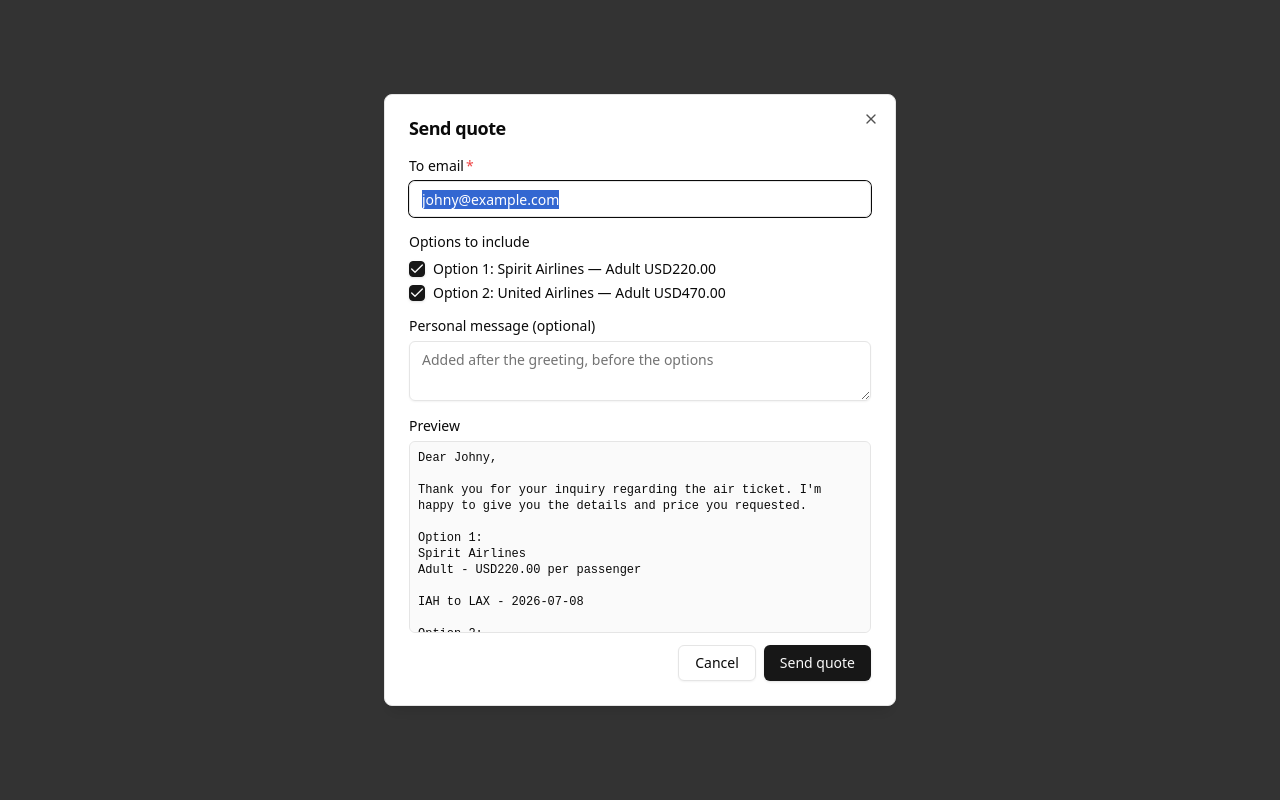
Test: SendQuoteDialog › sends only the checked options with the personal message, then shows success
This screenshot has width=1280, height=800.
Click the checkbox named "Option 1: Spirit Airlines": (417, 269) [409, 261, 425, 277]
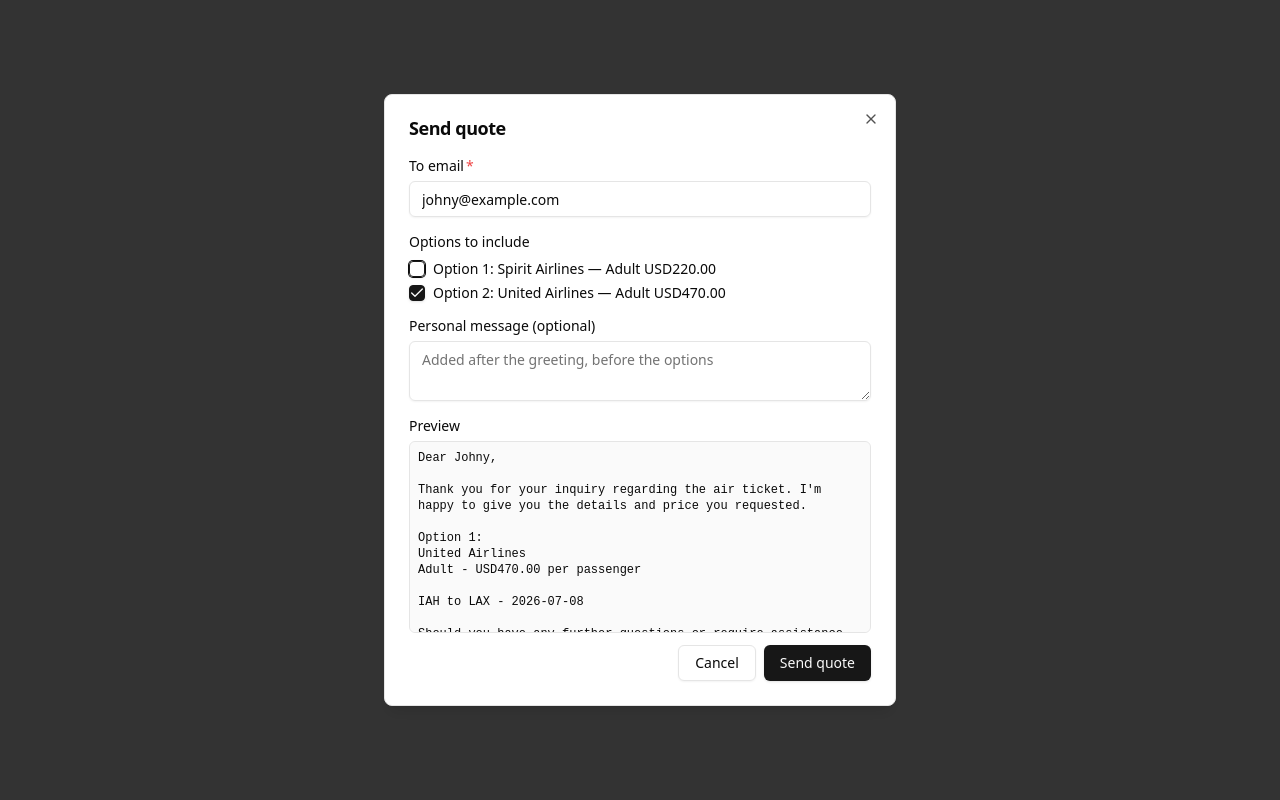
In the text box labelled "Personal message (optional)": (640, 371) [409, 341, 871, 401], type "Prices valid until Friday."
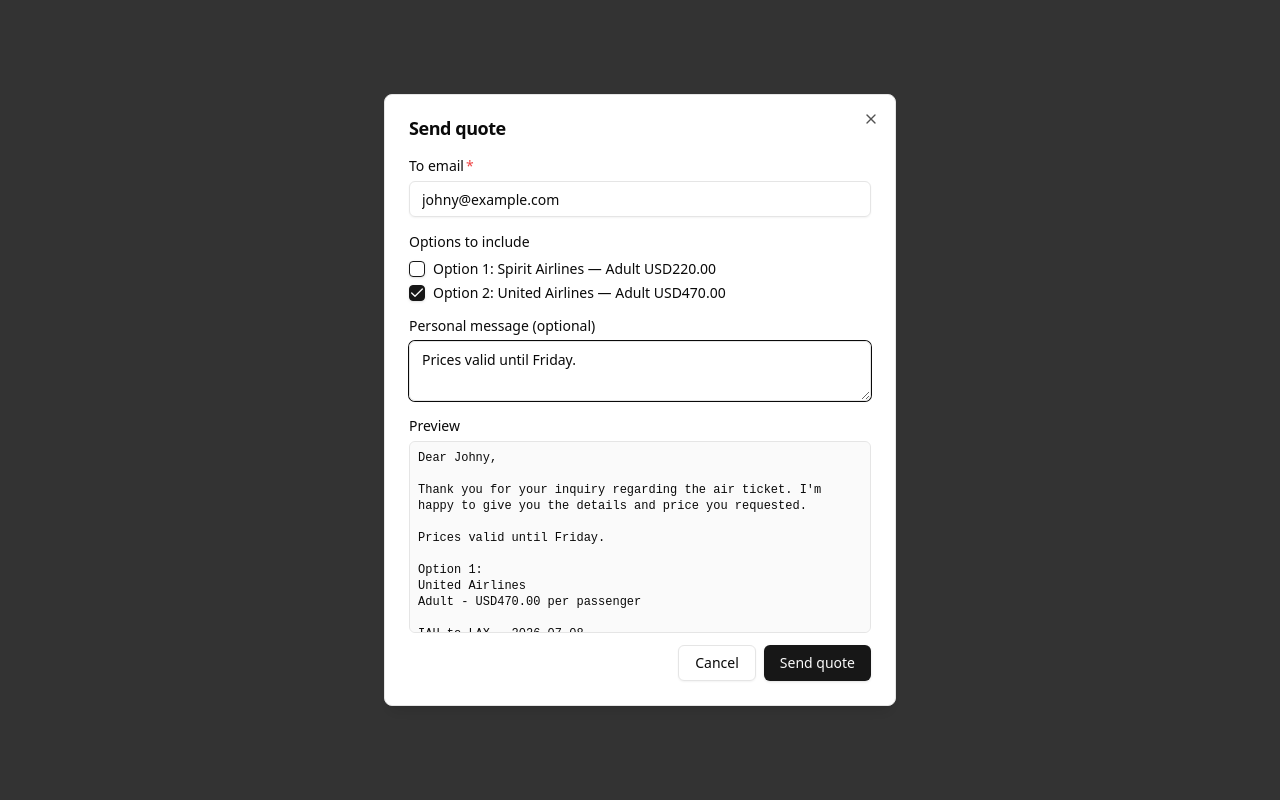
Click the button "Send quote": (817, 663) [764, 645, 871, 681]
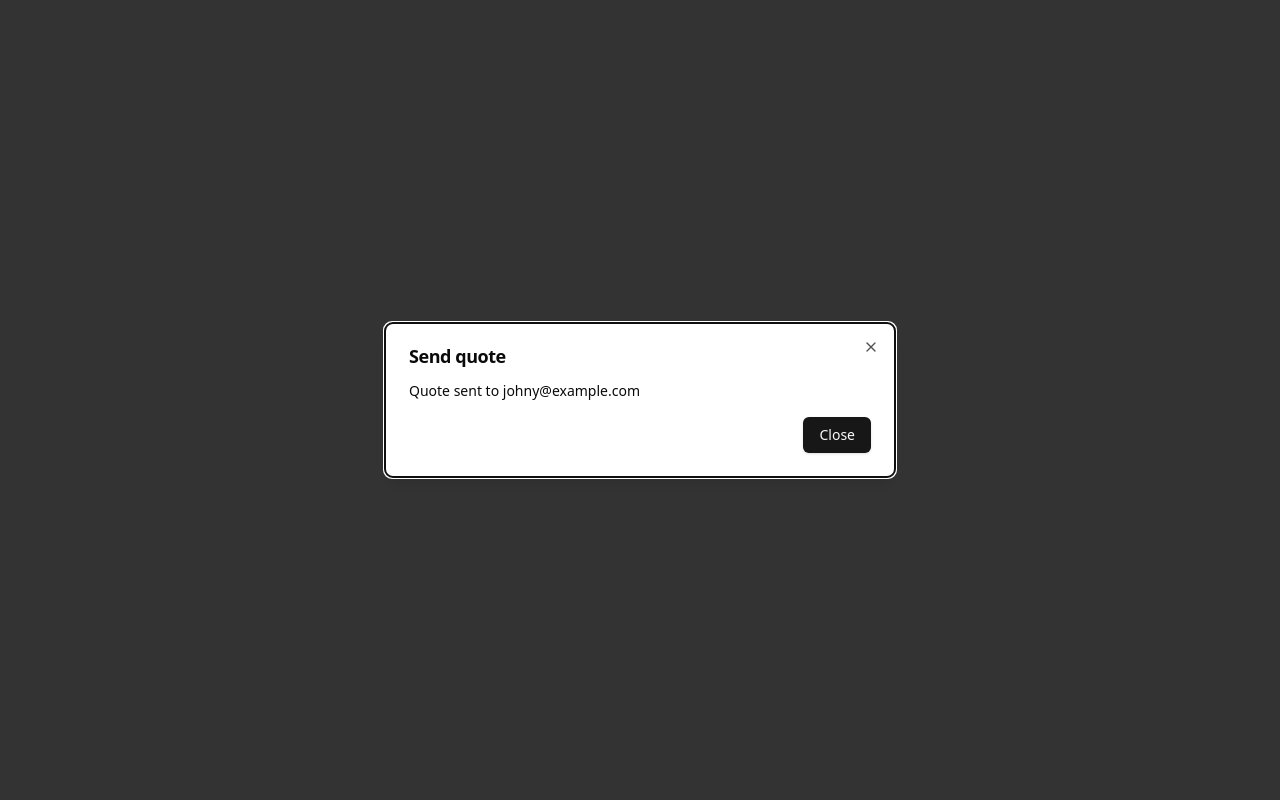
expect the text "Quote sent to johny@example.com" is shown: met, box [409, 381, 640, 400]
